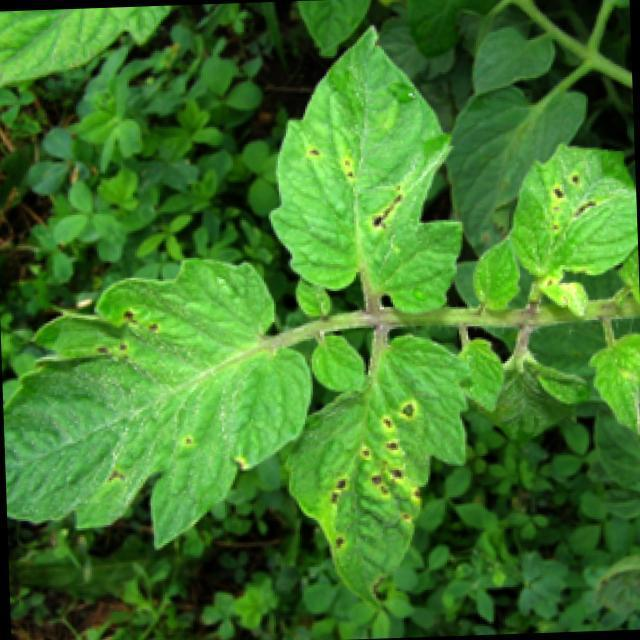Bacterial Spot: (327, 397, 426, 559), (302, 127, 416, 253), (542, 158, 610, 257), (90, 298, 174, 365), (176, 428, 204, 452)
